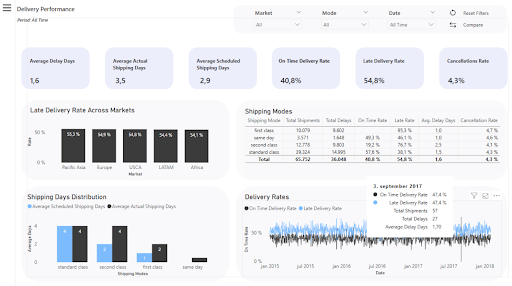

This screenshot's page, from the dashboard's own definition file:
{"tool":"powerbi","page":{"name":"Delivery Performance","canvas":[1280,720],"ordinal":1},"visuals":[{"type":"shape","title":"Navigation Lukket","box":[0,0,40.7,720.3],"z":0,"group":"g8"},{"type":"actionButton","title":"Knap - Reset Filters","box":[1109,16.3,39.8,36.2],"z":0,"group":"g3"},{"type":"shape","title":"Shape - KPI - 6","box":[1095,121,170,103.7],"z":0,"group":"g4"},{"type":"group","id":"g1","title":"Compare Elementer","box":[70,185,1197.8,508],"z":0,"group":"g7"},{"type":"group","id":"g2","title":"Visualiseringer","box":[68.9,270.2,1186.3,420.6],"z":0,"group":"g5"},{"type":"clusteredColumnChart","title":"Shipping Days Distribution","fields":{"Category":["dim_shipping.shipping_mode"],"Y":["fact_orders.Average Scheduled Shipping Days","fact_orders.Average Actual Shipping Days"]},"box":[68.9,483,494.1,207.8],"z":0,"group":"g2"},{"type":"shape","title":"Shape - Filter Panel","box":[584.8,16.3,678.9,69.7],"z":500,"group":"g6"},{"type":"group","id":"g3","title":"Reset Filters","box":[1109,16.3,133,36.2],"z":750,"group":"g6"},{"type":"shape","title":"Overskrift - Chart - Delivery Rates","box":[607.3,476,339.9,31.6],"z":812,"group":"g6"},{"type":"shape","title":"Overskrift - Chart - Late Delivery Rate Across Markets","box":[73,260,339.9,31.6],"z":875,"group":"g6"},{"type":"textbox","title":"Text - Reset Filters","box":[1150,21,92,28.9],"z":1000,"group":"g3"},{"type":"textbox","title":"Text - Compare","box":[1150,50,92,28.9],"z":1000,"group":"g6"},{"type":"group","id":"g4","title":"KPI Området","box":[56,121,1209,103.7],"z":1000,"group":"g5"},{"type":"shape","title":"Shape - KPI - 5","box":[887.2,121,170,103.7],"z":1000,"group":"g4"},{"type":"shape","title":"Shape - Plot","box":[56,251.9,517.8,200.2],"z":1000},{"type":"tableEx","title":"Shipping Modes","fields":{"Values":["dim_shipping.shipping_mode","fact_orders.Total Shipments","fact_orders.Total Delays","fact_orders.On Time Delivery Rate","fact_orders.Late Delivery Rate","fact_orders.Average Delay (days)","fact_orders.Shipping Cancellation Rate"]},"box":[607.2,270.2,648.1,166.9],"z":1000,"group":"g2"},{"type":"shape","title":"Shape - Plot","box":[56,466.1,517.8,239],"z":1250},{"type":"shape","title":"Shape - Plot","box":[589.9,251.9,676.1,200.2],"z":1500},{"type":"actionButton","title":"Menu Burger Åben","box":[8,10.5,25,25],"z":2000,"group":"g8"},{"type":"slicer","title":"Slicer - Market","fields":{"Values":["dim_location.market"]},"box":[624.5,21.1,139.7,60],"z":2000,"group":"g6"},{"type":"actionButton","title":"Compare Knap Slukket","box":[1109,47,39,36],"z":2000,"group":"g7"},{"type":"shape","title":"Shape - KPI - 4","box":[679.4,121,170,103.7],"z":2000,"group":"g4"},{"type":"shape","title":"Shape - Plot","box":[589.9,466.1,673.9,239],"z":2000},{"type":"group","id":"g5","title":"Dashboard Indhold","box":[56,121,1209,569.8],"z":2500},{"type":"slicer","title":"Slicer - Mode","fields":{"Values":["dim_shipping.shipping_mode"]},"box":[791,21.1,139.7,60],"z":3000,"group":"g6"},{"type":"shape","title":"Shape - KPI - 3","box":[471.6,121,170,103.7],"z":3000,"group":"g4"},{"type":"group","id":"g6","title":"Overskrifter og Filtres","box":[40.4,0,1223.3,507.6],"z":4000},{"type":"slicer","title":"Slicer - Date","fields":{"Values":["DatePeriodFilter.Period"]},"box":[957.4,21.1,139.7,60],"z":4000,"group":"g6"},{"type":"shape","title":"Shape - KPI - 2","box":[263.8,121,170,103.7],"z":4000,"group":"g4"},{"type":"shape","title":"Shape - KPI - 1","box":[56,121,170,103.7],"z":5000,"group":"g4"},{"type":"group","id":"g7","title":"Compare Elementer","box":[70,47,1197.8,646],"z":6000},{"type":"textbox","title":"Text - KPI - 6","box":[1109.9,139.9,121.6,29.1],"z":6000,"group":"g4"},{"type":"group","id":"g8","title":"Bar Lukket","box":[0,0,40.7,720.3],"z":7000},{"type":"shape","title":"Periode","box":[41.1,36.2,223.9,33.2],"z":7000,"group":"g6"},{"type":"textbox","title":"Text - KPI - 5","box":[901.1,139.9,145.3,29.1],"z":7000,"group":"g4"},{"type":"shape","title":"Titel","box":[40.4,0,340.5,50.2],"z":8000,"group":"g6"},{"type":"textbox","title":"Text - KPI 4","box":[691.1,139.9,145.3,49.5],"z":8000,"group":"g4"},{"type":"lineChart","title":"Chart - Delivery Rates - Normal","fields":{"Category":["dim_date.date"],"Y":["fact_orders.On Time Delivery Rate","fact_orders.Late Delivery Rate"]},"box":[605.2,502.2,645.7,190.8],"z":8000,"group":"g1"},{"type":"textbox","title":"Text - KPI - 3","box":[486.6,139.9,152.9,54.9],"z":9000,"group":"g4"},{"type":"clusteredColumnChart","title":"Chart - Late Delivery Rate Across Markets - Normal","fields":{"Category":["dim_location.market"],"Y":["fact_orders.Late Delivery Rate"]},"box":[70.3,289.9,485.2,152.9],"z":9500,"group":"g1"},{"type":"textbox","title":"Text - KPI - 2","box":[278.8,139.9,147.5,49.5],"z":10000,"group":"g4"},{"type":"textbox","title":"Text - KPI - 1","box":[72.1,139.9,144.3,28],"z":11000,"group":"g4"},{"type":"card","title":"KPI-Tal - 6","fields":{"Values":["fact_orders.Shipping Cancellation Rate"]},"box":[1106.7,189.5,61.4,30.1],"z":12000,"group":"g4"},{"type":"card","title":"KPI-Tal - 5","fields":{"Values":["fact_orders.Late Delivery Rate"]},"box":[901.1,189.5,63.5,30.1],"z":13000,"group":"g4"},{"type":"card","title":"KPI-Tal - 4","fields":{"Values":["fact_orders.On Time Delivery Rate"]},"box":[691.1,189.5,70,30.1],"z":14000,"group":"g4"},{"type":"card","title":"KPI-Tal - 3","fields":{"Values":["fact_orders.Average Scheduled Shipping Days"]},"box":[486.6,189.5,52.8,30.1],"z":15000,"group":"g4"},{"type":"card","title":"KPI-Tal - 2","fields":{"Values":["fact_orders.Average Actual Shipping Days"]},"box":[278.8,189.5,47.4,30.1],"z":16000,"group":"g4"},{"type":"card","title":"KPI-Tal - 1","fields":{"Values":["fact_orders.Average Delay (days)"]},"box":[63.5,189.5,50.6,30.1],"z":17000,"group":"g4"}]}

Visuals, with their boxes in screenshot pixels (x1, y1, x2, y2), scaled from the page's 1280x720 canvas onto the 512x286 screenshot:
"Navigation Lukket" shape: {"left": 0, "top": 0, "right": 16, "bottom": 285}
"Knap - Reset Filters" actionButton: {"left": 444, "top": 6, "right": 460, "bottom": 21}
"Shape - KPI - 6" shape: {"left": 438, "top": 48, "right": 506, "bottom": 89}
"Compare Elementer" group: {"left": 28, "top": 73, "right": 507, "bottom": 275}
"Visualiseringer" group: {"left": 28, "top": 107, "right": 502, "bottom": 274}
"Shipping Days Distribution" clusteredColumnChart: {"left": 28, "top": 192, "right": 225, "bottom": 274}
"Shape - Filter Panel" shape: {"left": 234, "top": 6, "right": 505, "bottom": 34}
"Reset Filters" group: {"left": 444, "top": 6, "right": 497, "bottom": 21}
"Overskrift - Chart - Delivery Rates" shape: {"left": 243, "top": 189, "right": 379, "bottom": 202}
"Overskrift - Chart - Late Delivery Rate Across Markets" shape: {"left": 29, "top": 103, "right": 165, "bottom": 116}
"Text - Reset Filters" textbox: {"left": 460, "top": 8, "right": 497, "bottom": 20}
"Text - Compare" textbox: {"left": 460, "top": 20, "right": 497, "bottom": 31}
"KPI Området" group: {"left": 22, "top": 48, "right": 506, "bottom": 89}
"Shape - KPI - 5" shape: {"left": 355, "top": 48, "right": 423, "bottom": 89}
"Shape - Plot" shape: {"left": 22, "top": 100, "right": 230, "bottom": 180}
"Shipping Modes" tableEx: {"left": 243, "top": 107, "right": 502, "bottom": 174}
"Shape - Plot" shape: {"left": 22, "top": 185, "right": 230, "bottom": 280}
"Shape - Plot" shape: {"left": 236, "top": 100, "right": 506, "bottom": 180}
"Menu Burger Åben" actionButton: {"left": 3, "top": 4, "right": 13, "bottom": 14}
"Slicer - Market" slicer: {"left": 250, "top": 8, "right": 306, "bottom": 32}
"Compare Knap Slukket" actionButton: {"left": 444, "top": 19, "right": 459, "bottom": 33}
"Shape - KPI - 4" shape: {"left": 272, "top": 48, "right": 340, "bottom": 89}
"Shape - Plot" shape: {"left": 236, "top": 185, "right": 506, "bottom": 280}
"Dashboard Indhold" group: {"left": 22, "top": 48, "right": 506, "bottom": 274}
"Slicer - Mode" slicer: {"left": 316, "top": 8, "right": 372, "bottom": 32}
"Shape - KPI - 3" shape: {"left": 189, "top": 48, "right": 257, "bottom": 89}
"Overskrifter og Filtres" group: {"left": 16, "top": 0, "right": 505, "bottom": 202}
"Slicer - Date" slicer: {"left": 383, "top": 8, "right": 439, "bottom": 32}
"Shape - KPI - 2" shape: {"left": 106, "top": 48, "right": 174, "bottom": 89}
"Shape - KPI - 1" shape: {"left": 22, "top": 48, "right": 90, "bottom": 89}
"Compare Elementer" group: {"left": 28, "top": 19, "right": 507, "bottom": 275}
"Text - KPI - 6" textbox: {"left": 444, "top": 56, "right": 493, "bottom": 67}
"Bar Lukket" group: {"left": 0, "top": 0, "right": 16, "bottom": 285}
"Periode" shape: {"left": 16, "top": 14, "right": 106, "bottom": 28}
"Text - KPI - 5" textbox: {"left": 360, "top": 56, "right": 419, "bottom": 67}
"Titel" shape: {"left": 16, "top": 0, "right": 152, "bottom": 20}
"Text - KPI 4" textbox: {"left": 276, "top": 56, "right": 335, "bottom": 75}
"Chart - Delivery Rates - Normal" lineChart: {"left": 242, "top": 199, "right": 500, "bottom": 275}
"Text - KPI - 3" textbox: {"left": 195, "top": 56, "right": 256, "bottom": 77}
"Chart - Late Delivery Rate Across Markets - Normal" clusteredColumnChart: {"left": 28, "top": 115, "right": 222, "bottom": 176}
"Text - KPI - 2" textbox: {"left": 112, "top": 56, "right": 171, "bottom": 75}
"Text - KPI - 1" textbox: {"left": 29, "top": 56, "right": 87, "bottom": 67}
"KPI-Tal - 6" card: {"left": 443, "top": 75, "right": 467, "bottom": 87}
"KPI-Tal - 5" card: {"left": 360, "top": 75, "right": 386, "bottom": 87}
"KPI-Tal - 4" card: {"left": 276, "top": 75, "right": 304, "bottom": 87}
"KPI-Tal - 3" card: {"left": 195, "top": 75, "right": 216, "bottom": 87}
"KPI-Tal - 2" card: {"left": 112, "top": 75, "right": 130, "bottom": 87}
"KPI-Tal - 1" card: {"left": 25, "top": 75, "right": 46, "bottom": 87}
